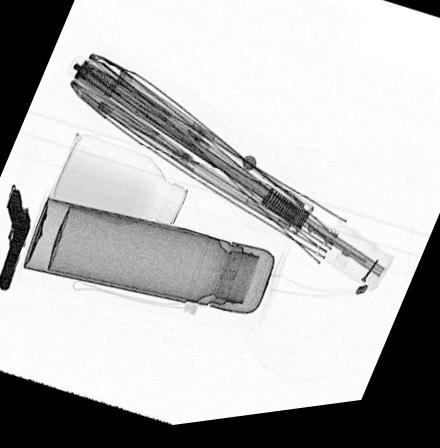Gun: (0, 190, 30, 290)
